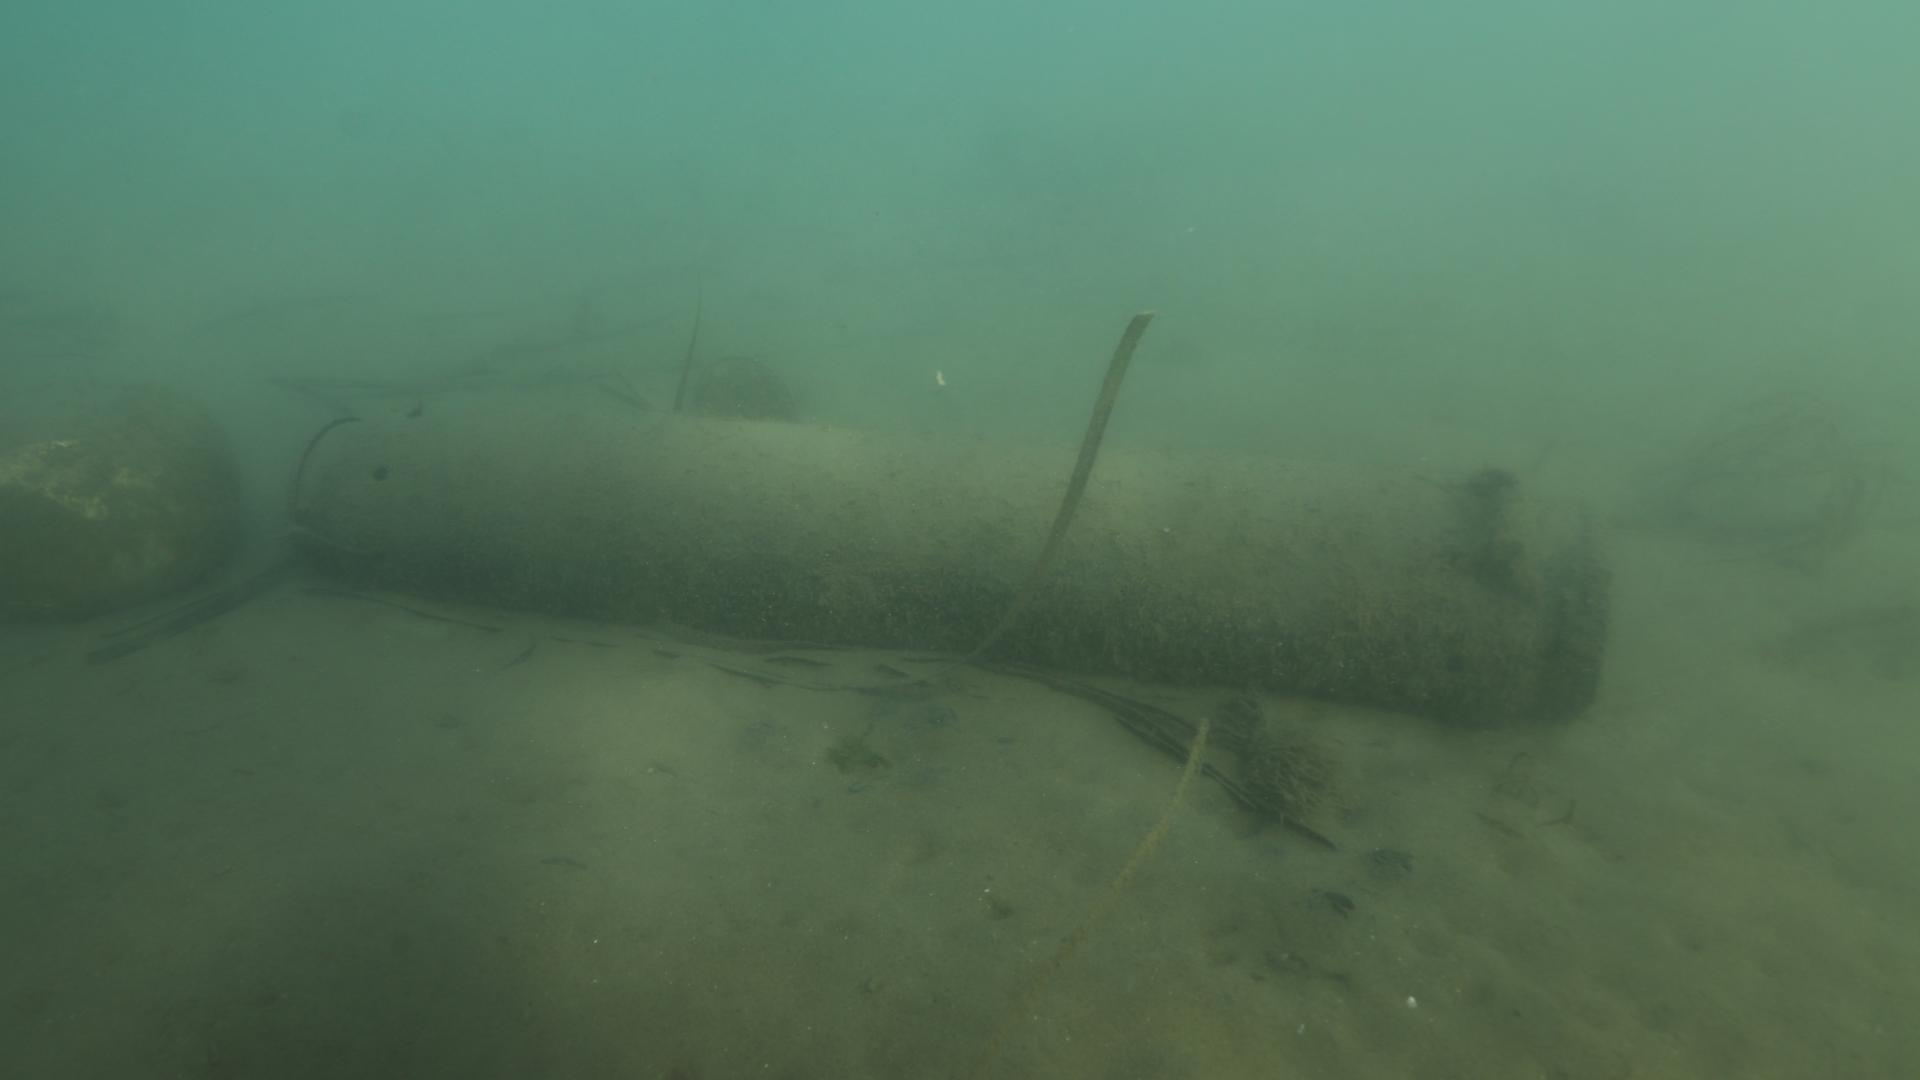eel fish trap: (295, 386, 1615, 728)
